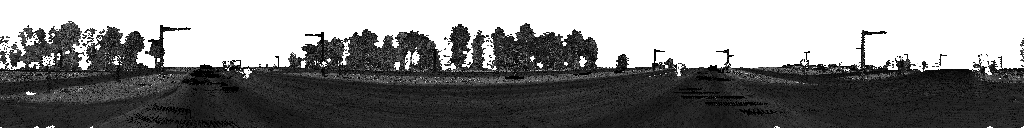light_pole: (148, 26, 190, 81), (856, 31, 886, 79), (304, 31, 325, 61), (716, 50, 733, 72), (652, 50, 664, 71), (432, 50, 436, 73), (940, 54, 947, 67), (57, 51, 61, 70), (998, 56, 1002, 67), (275, 57, 278, 68)
traffic_pole: (40, 57, 55, 93), (110, 56, 124, 83), (222, 61, 241, 75), (978, 55, 989, 75), (672, 64, 685, 78), (319, 62, 327, 77), (800, 60, 808, 75), (896, 57, 903, 74), (336, 59, 342, 76)
